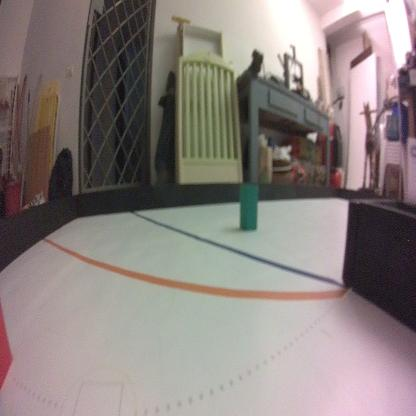green: (238, 182, 258, 232)
